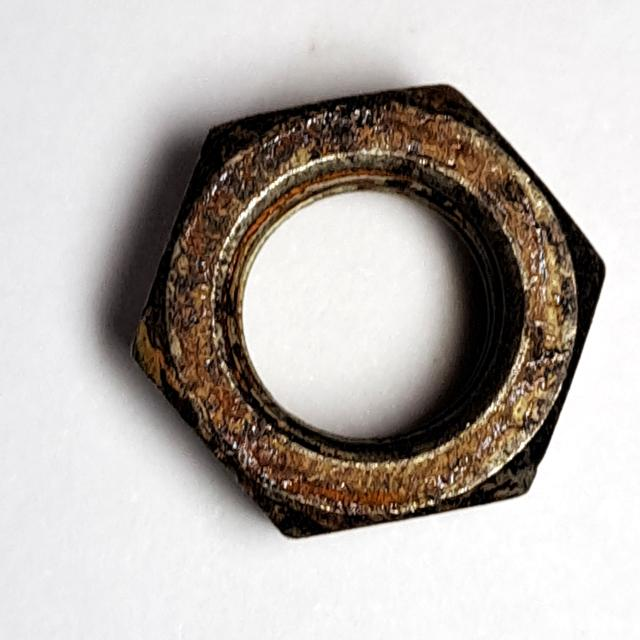Rust: (117, 73, 615, 555)
